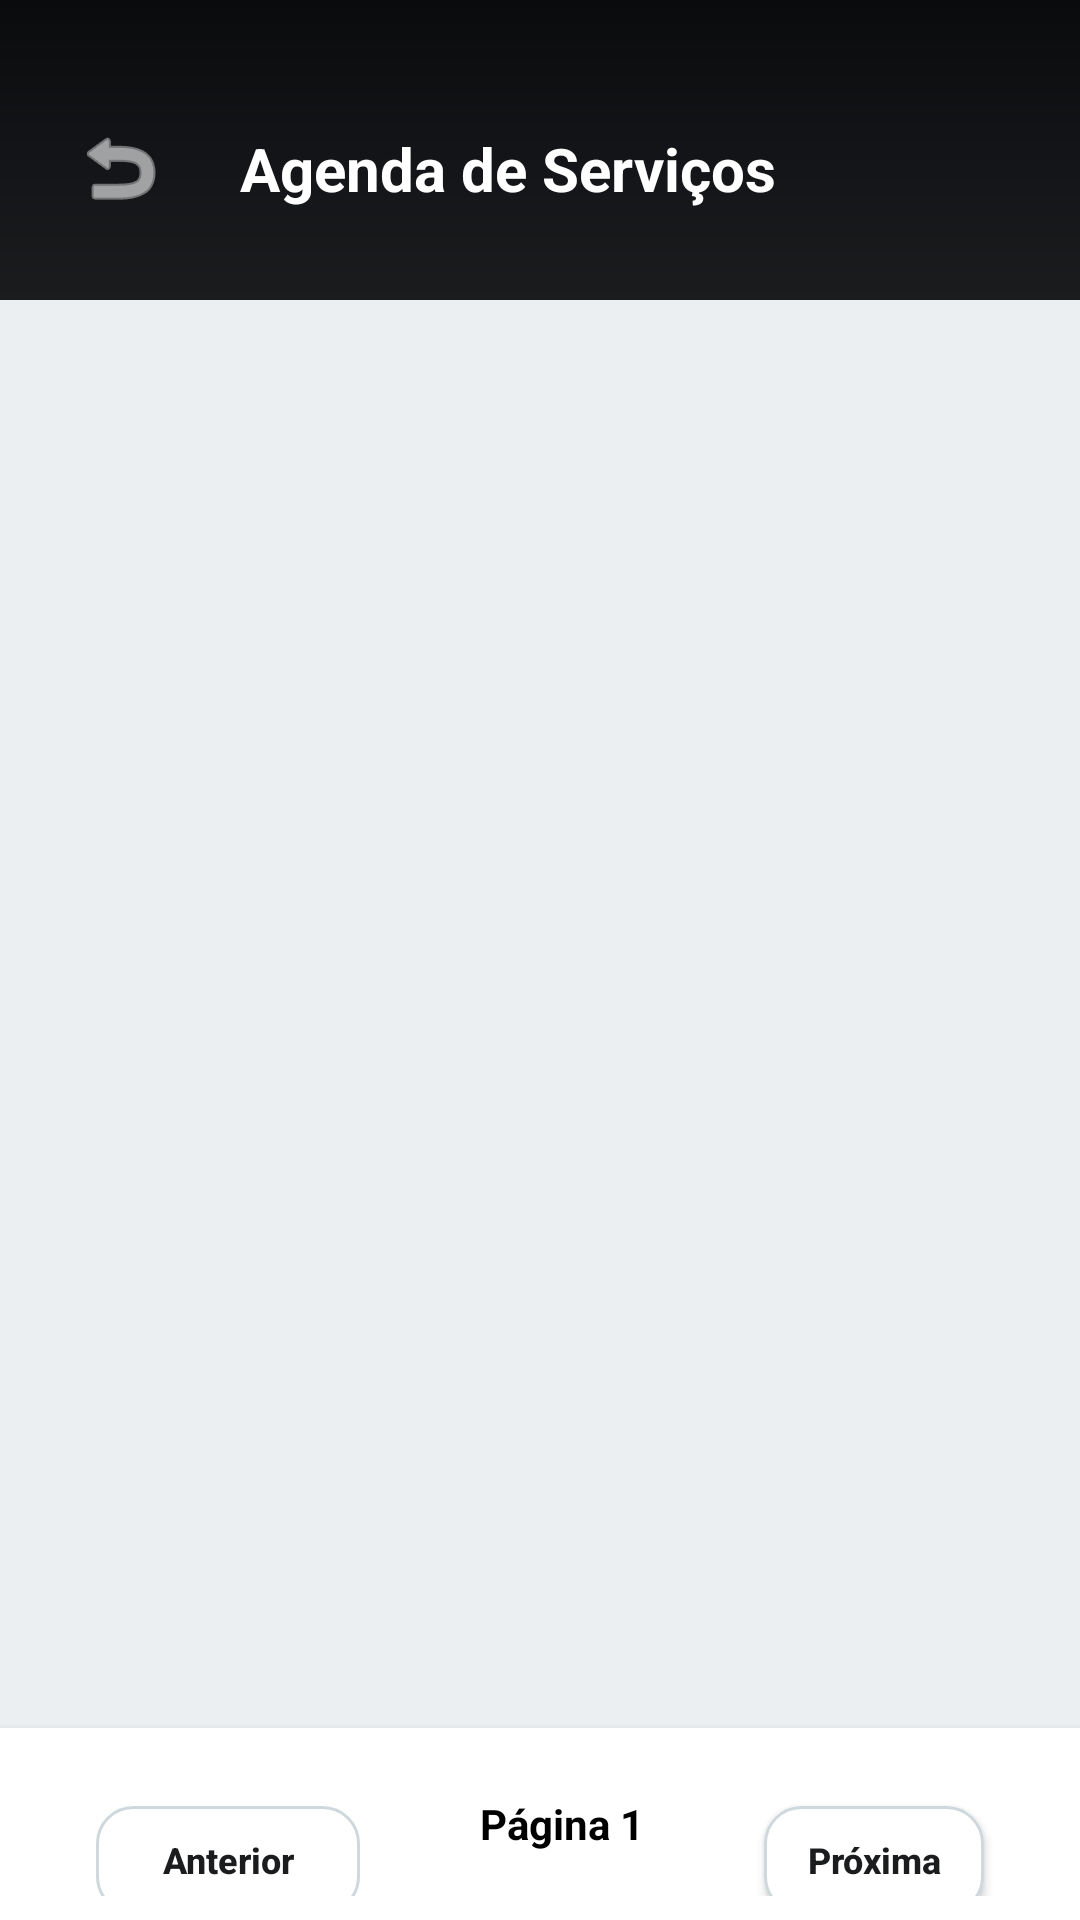

Icon bounding boxes for this 1080×1920 phone screenshot, format (x1,y1,x2,y2):
revert: (87,137,156,200)
